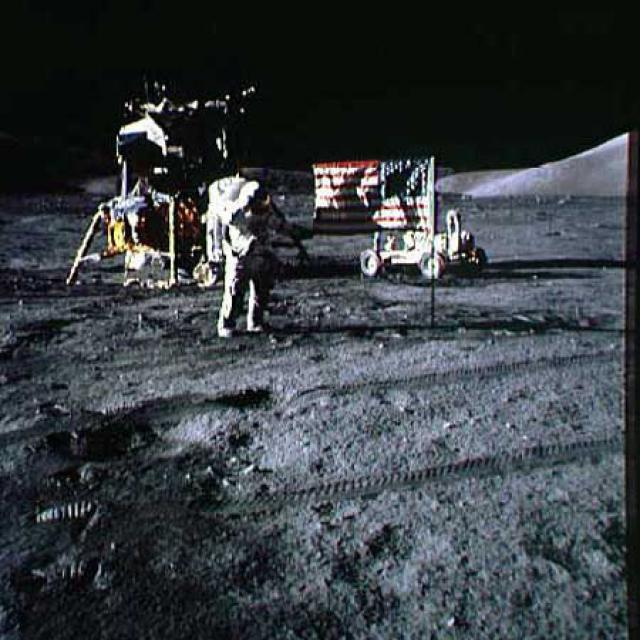artifact: (51, 68, 307, 295), (312, 141, 505, 327)
crater: (20, 420, 205, 473)
